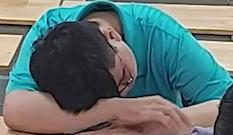Sleeping: (11, 2, 219, 132)
